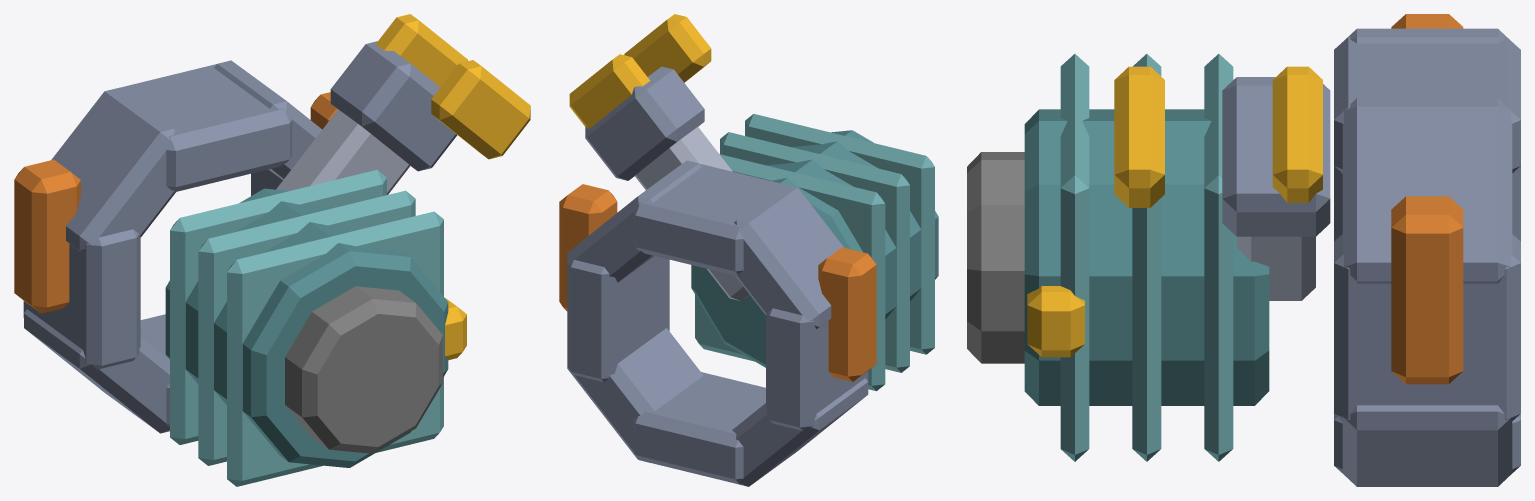
The model's file is crank_bot.glb.
3 views of the same model, side by side, from view 1: azimuth 30°, elevation 25°; view 2: azimuth 150°, elevation 25°; view 3: azimuth 270°, elevation 25° (orthographic). The views are drawn at different scales.
Visible parts, largest first — view 1: crank_bot; view 2: crank_bot; view 3: crank_bot.
Boxes of the visible parts, x1,y1,x2,y2 form: crank_bot: [14, 14, 530, 486]; crank_bot: [559, 14, 938, 486]; crank_bot: [967, 14, 1520, 486].
Size of the model in its own units: 0.3942 by 0.365 by 0.385.
